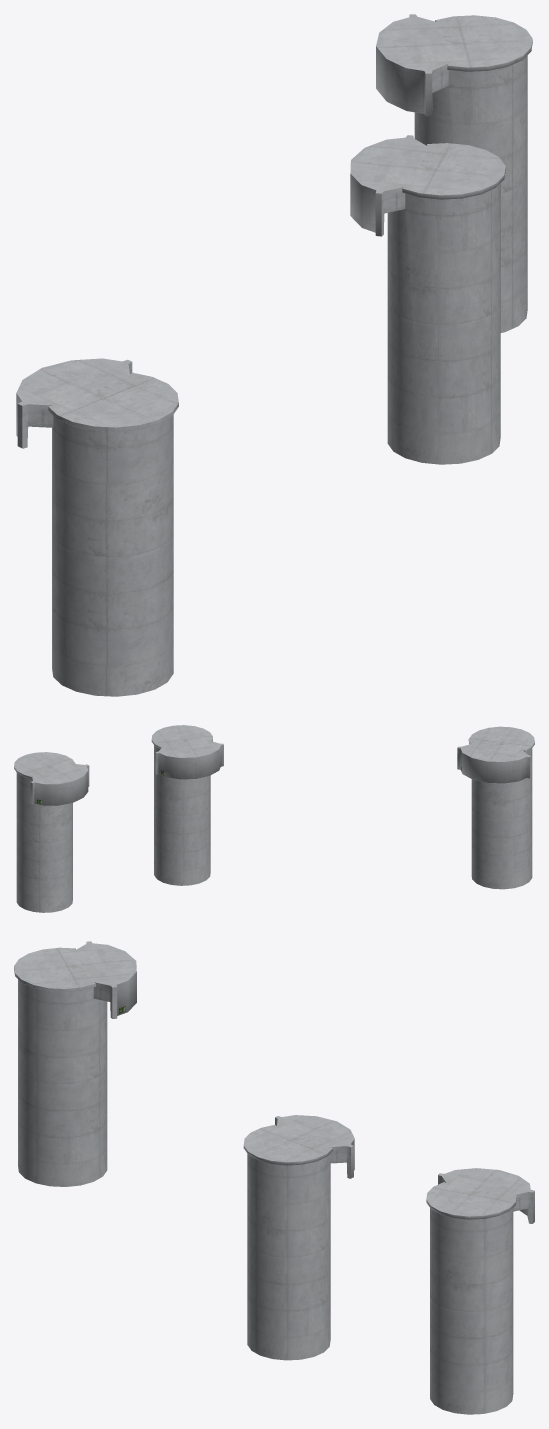
Rendered from emergency_stairs.FBX.
3 renders of one model, top to bottom at view 1: azimuth 30°, elevation 25°; view 2: azimuth 150°, elevation 25°; view 3: azimuth 270°, elevation 25°, orthographic. The views are drawn at different scales.
Visible parts, largest first — view 1: emergency_stairs; view 2: emergency_stairs; view 3: emergency_stairs.
Part boxes in pixels (left/top/right/bottom): emergency_stairs: left=16, top=14, right=532, bottom=696; emergency_stairs: left=14, top=725, right=534, bottom=912; emergency_stairs: left=14, top=941, right=534, bottom=1414.
Size of the model in its own units: 5238 by 1780 by 4197.
1 material, 1 textured.
